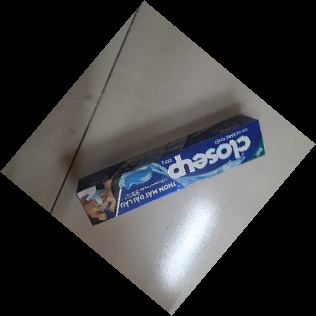CloseUp Tuyet: (76, 114, 266, 231)
